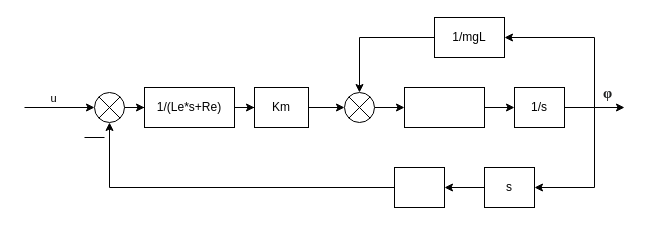
The diagram is 650 pixels wide and 225 high, and some of its shapes have lost their labels. Each missing label, with the centre of its shape:
"1/(Js+b)" goes at (444,107).
"Ke" goes at (419,187).
